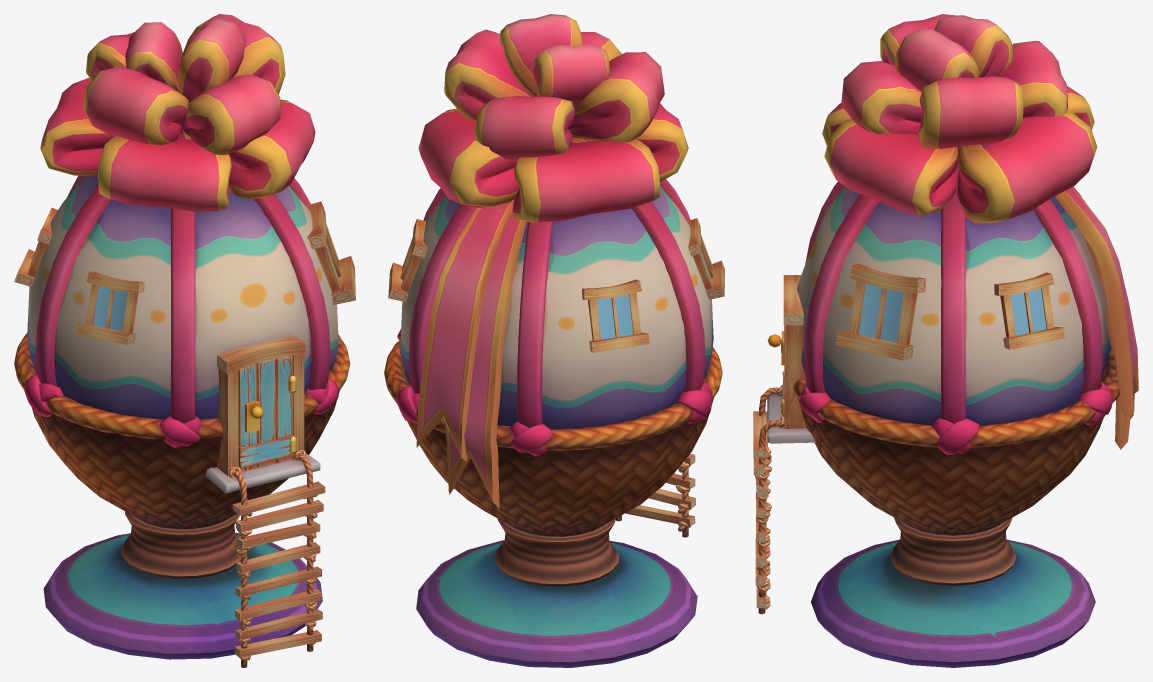
File: SE_House_05b.fbx
The picture shows the model from 3 angles, left to right: view 1: azimuth 30°, elevation 25°; view 2: azimuth 150°, elevation 25°; view 3: azimuth 270°, elevation 25°; orthographic projection.
Visible parts, largest first — view 1: SE_House_05b; view 2: SE_House_05b; view 3: SE_House_05b.
Part boxes in pixels (x1=…): SE_House_05b: x1=14, y1=14, x2=355, y2=667; SE_House_05b: x1=384, y1=14, x2=724, y2=667; SE_House_05b: x1=753, y1=14, x2=1138, y2=667.
Size of the model in its own units: 7.62 by 13.87 by 8.26.
